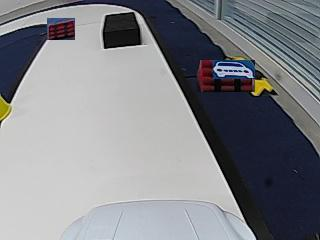block: (103, 12, 142, 49)
cone: (0, 95, 11, 121)
